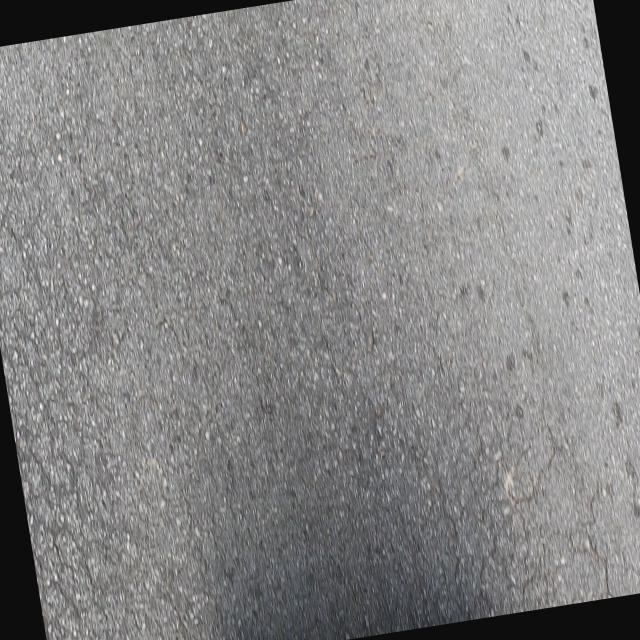Retak-Buaya: (0, 133, 170, 640), (409, 400, 618, 627)
